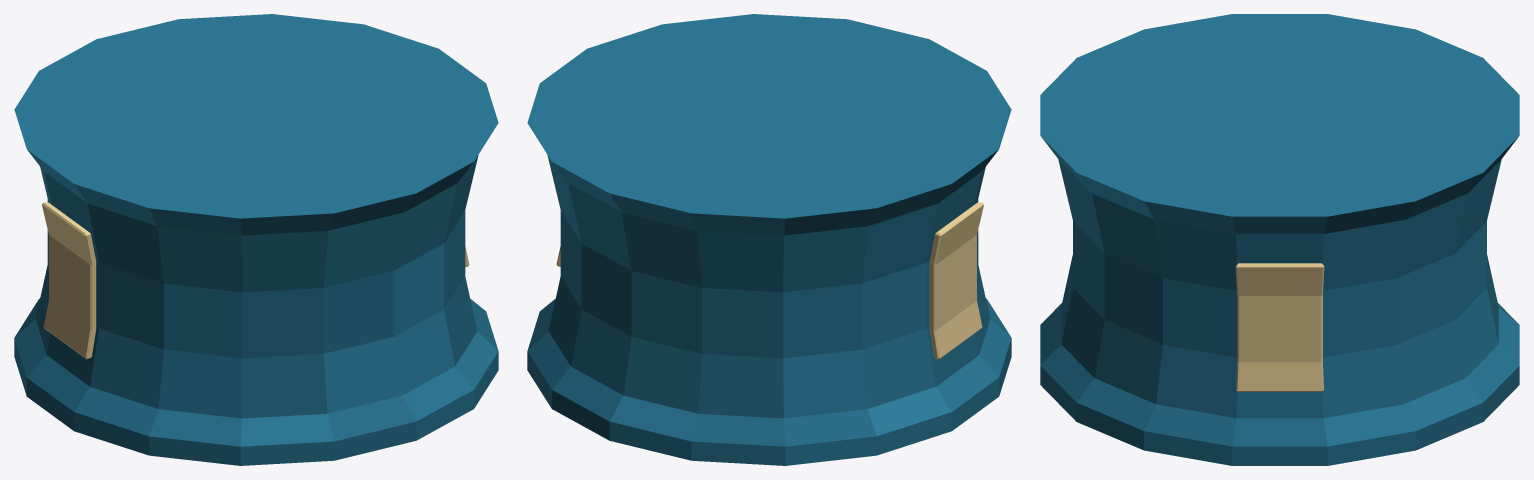
Rendered from QR_WaistSpacer.fbx.
3 renders of one model, left to right at view 1: azimuth 30°, elevation 25°; view 2: azimuth 150°, elevation 25°; view 3: azimuth 270°, elevation 25°, orthographic.
Visible parts, largest first — view 1: QR_WaistSpacer; view 2: QR_WaistSpacer; view 3: QR_WaistSpacer.
Boxes of the visible parts, x1,y1,x2,y2 form: QR_WaistSpacer: (14, 14, 498, 465); QR_WaistSpacer: (527, 14, 1011, 465); QR_WaistSpacer: (1040, 14, 1519, 465).
Size of the model in its own units: 0.7846 by 0.45 by 0.7846.
Materials: 2 (2 with a texture image).
